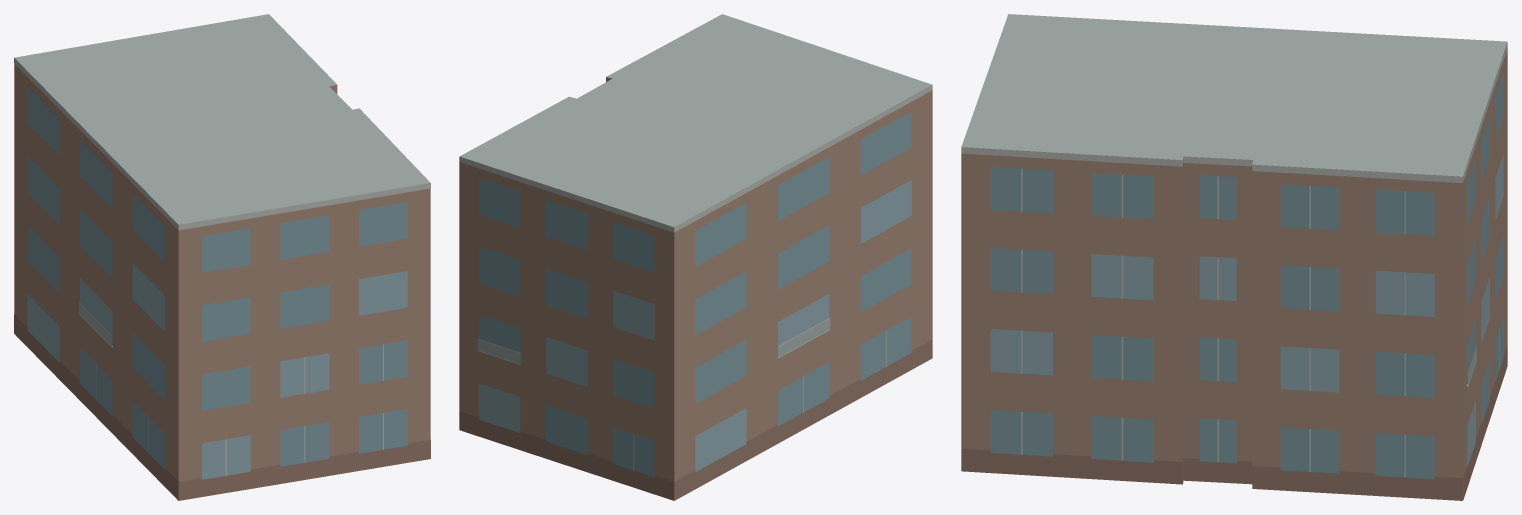
The model's file is survey-upis-32639634.glb.
The picture shows the model from 3 angles, left to right: view 1: azimuth 30°, elevation 25°; view 2: azimuth 150°, elevation 25°; view 3: azimuth 270°, elevation 25°; orthographic projection. The views are drawn at different scales.
Parts seen in each view (by area): view 1: survey-upis-32639634.tmp; view 2: survey-upis-32639634.tmp; view 3: survey-upis-32639634.tmp.
Boxes of the visible parts, <box> form: survey-upis-32639634.tmp: <box>14,14,430,500</box>; survey-upis-32639634.tmp: <box>459,14,932,500</box>; survey-upis-32639634.tmp: <box>961,14,1507,500</box>.
Bounding box in the file's own units: 13.14 × 12.2 × 18.64.
